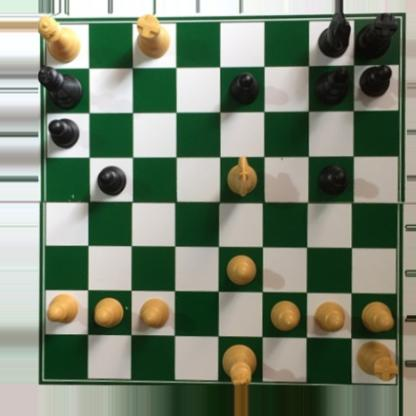black-bishop: (310, 63, 349, 105)
black-king: (38, 62, 85, 113)
black-knight: (317, 13, 353, 60)
black-pawn: (357, 63, 394, 100), (225, 70, 260, 106), (45, 117, 81, 149), (94, 164, 126, 197), (317, 164, 349, 196)
black-rook: (354, 13, 398, 60)
white-king: (220, 343, 257, 386)
white-knight: (226, 155, 257, 199)
white-pawn: (313, 299, 347, 335), (44, 291, 81, 324), (356, 302, 395, 333), (267, 297, 302, 331), (138, 296, 171, 330), (92, 295, 125, 328), (224, 255, 259, 285)
white-queen: (38, 13, 85, 63)
white-rook: (353, 337, 399, 382), (131, 13, 169, 60)
